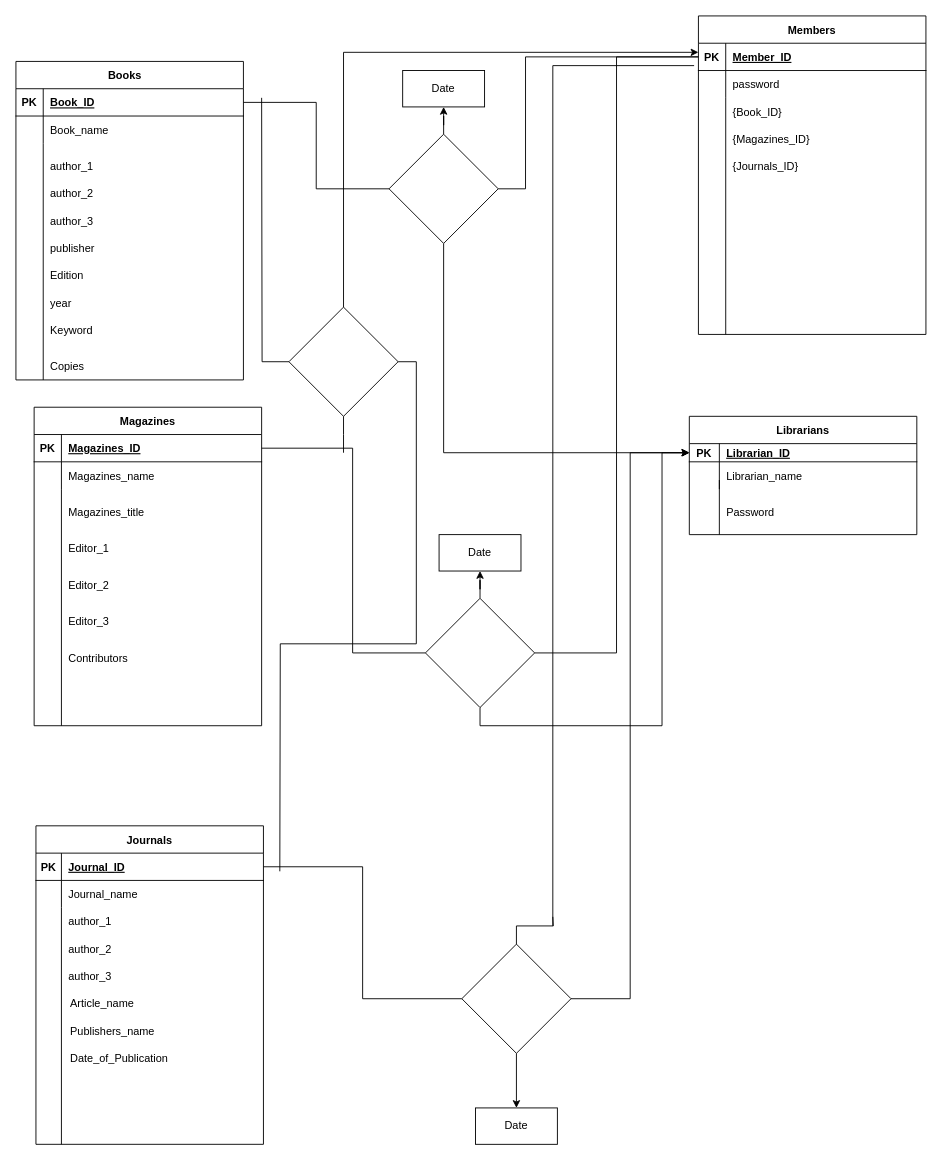
This 942x1161 diagram has some shape labels left out. The shapes that lost their labels are listed below. From the top down, each one's centre as x and y in pixels, then its label:
At pixel 443 188: "Book_Lend".
At pixel 343 361: "Saved_Searches".
At pixel 480 652: "Magazines_Lend".
At pixel 516 998: "Journal_Lend".
